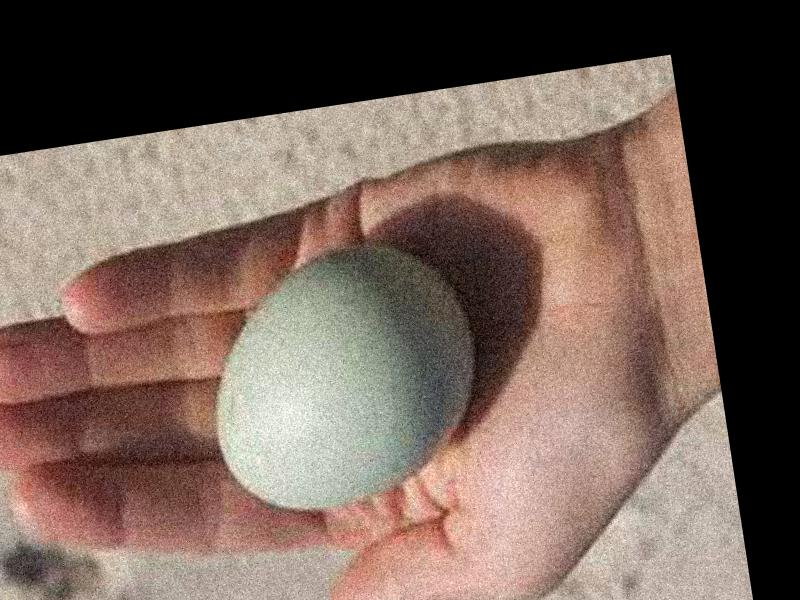Eggs: (190, 233, 488, 521)
